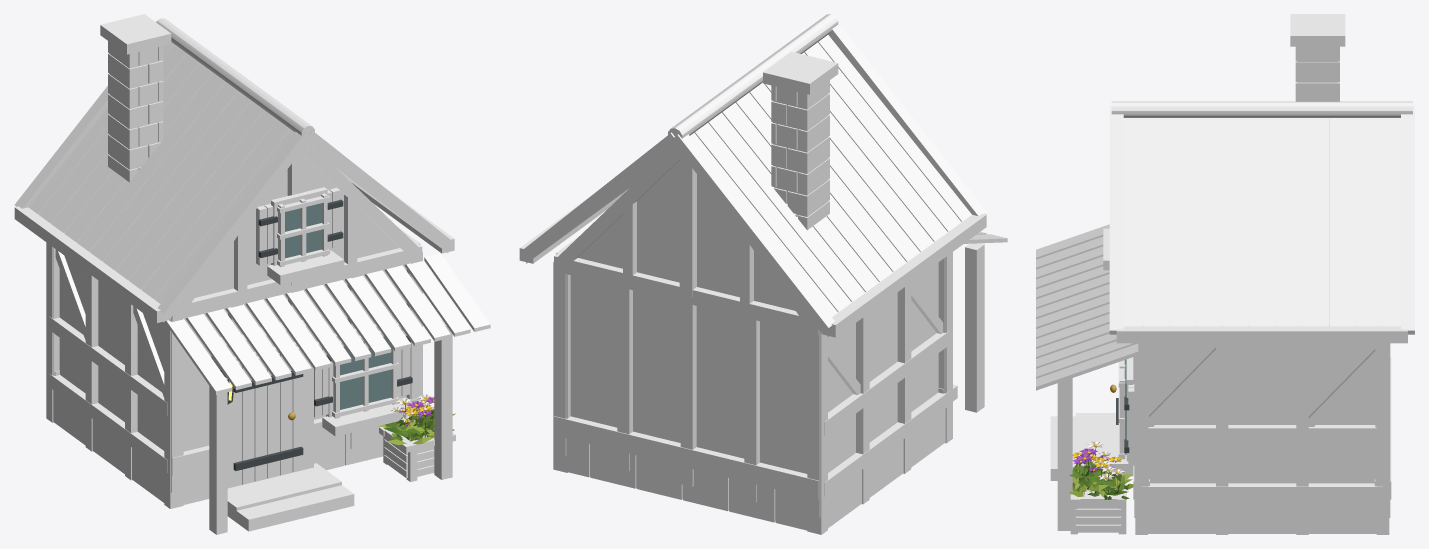
File: 05_small_house.glb
The picture shows the model from 3 angles, left to right: view 1: azimuth 30°, elevation 25°; view 2: azimuth 150°, elevation 25°; view 3: azimuth 270°, elevation 25°; orthographic projection. The views are drawn at different scales.
Visible parts, largest first — view 1: 05_small_house; view 2: 05_small_house; view 3: 05_small_house.
Part boxes in pixels (<box>): 05_small_house: <box>14,14,490,534</box>; 05_small_house: <box>519,14,1007,534</box>; 05_small_house: <box>1036,14,1414,534</box>.
Size of the model in its own units: 4.23 by 5.46 by 4.56.
